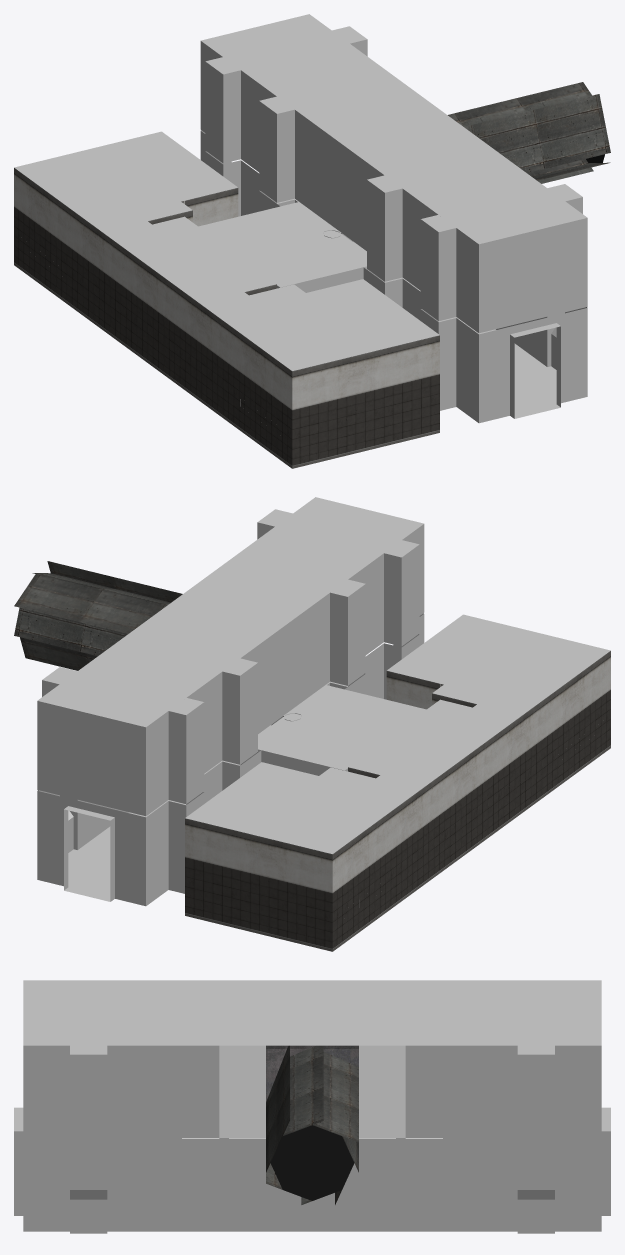
The model's file is Room2_2_LCZ.fbx.
3 views of the same model, one above another, from view 1: azimuth 30°, elevation 25°; view 2: azimuth 150°, elevation 25°; view 3: azimuth 270°, elevation 25° (orthographic). The views are drawn at different scales.
Parts seen in each view (by area): view 1: Room2_2_LCZ; view 2: Room2_2_LCZ; view 3: Room2_2_LCZ.
Boxes of the visible parts, x1,y1,x2,y2 form: Room2_2_LCZ: [14, 14, 610, 468]; Room2_2_LCZ: [14, 497, 610, 951]; Room2_2_LCZ: [14, 980, 610, 1233].
Size of the model in its own units: 17.92 by 7.04 by 20.48.
